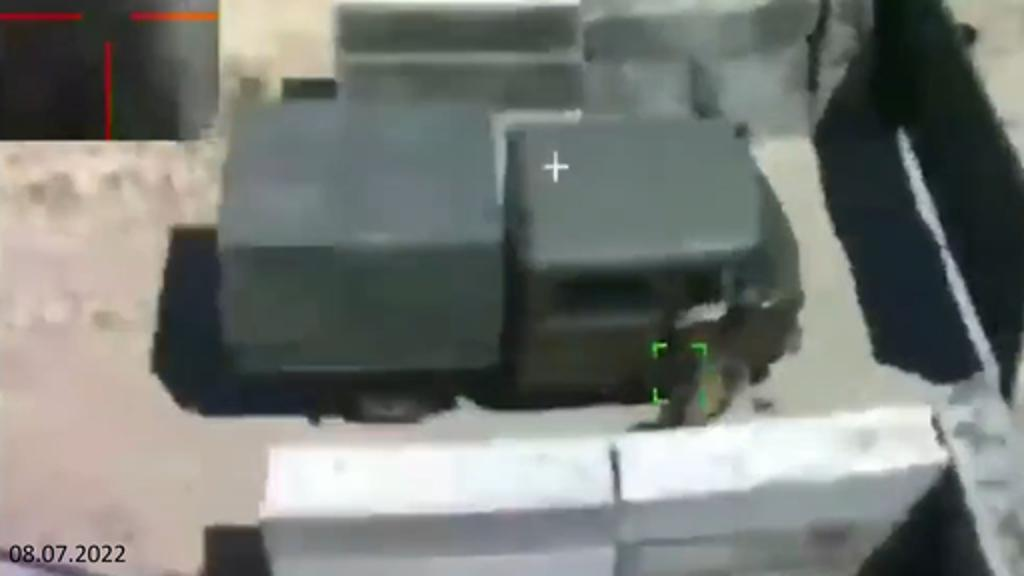TRUCK: (206, 80, 802, 426)
